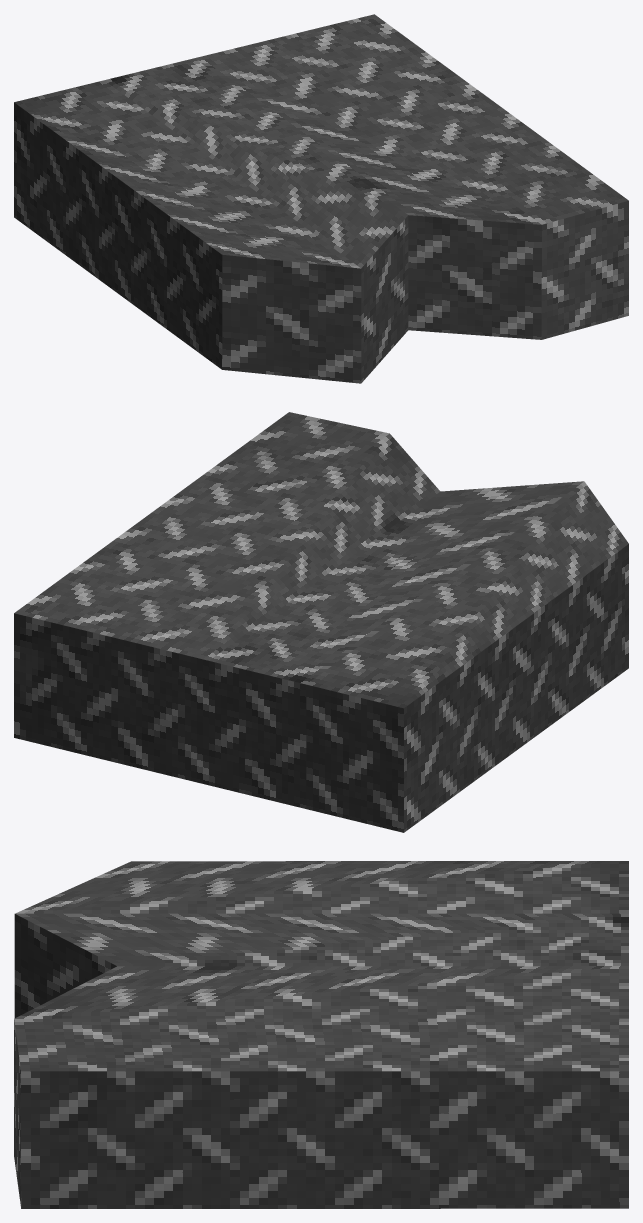
File: balk_17.glb
3 renders of one model, top to bottom at view 1: azimuth 30°, elevation 25°; view 2: azimuth 150°, elevation 25°; view 3: azimuth 270°, elevation 25°, orthographic. The views are drawn at different scales.
Visible parts, largest first — view 1: Куб.012; view 2: Куб.012; view 3: Куб.012.
Part boxes in pixels (box(x1,y1,x2,y2)): Куб.012: box(14, 14, 628, 383); Куб.012: box(14, 412, 628, 832); Куб.012: box(14, 861, 628, 1208).
Bounding box in the file's own units: 2.49 × 0.7598 × 3.08.
1 material, 1 textured.
